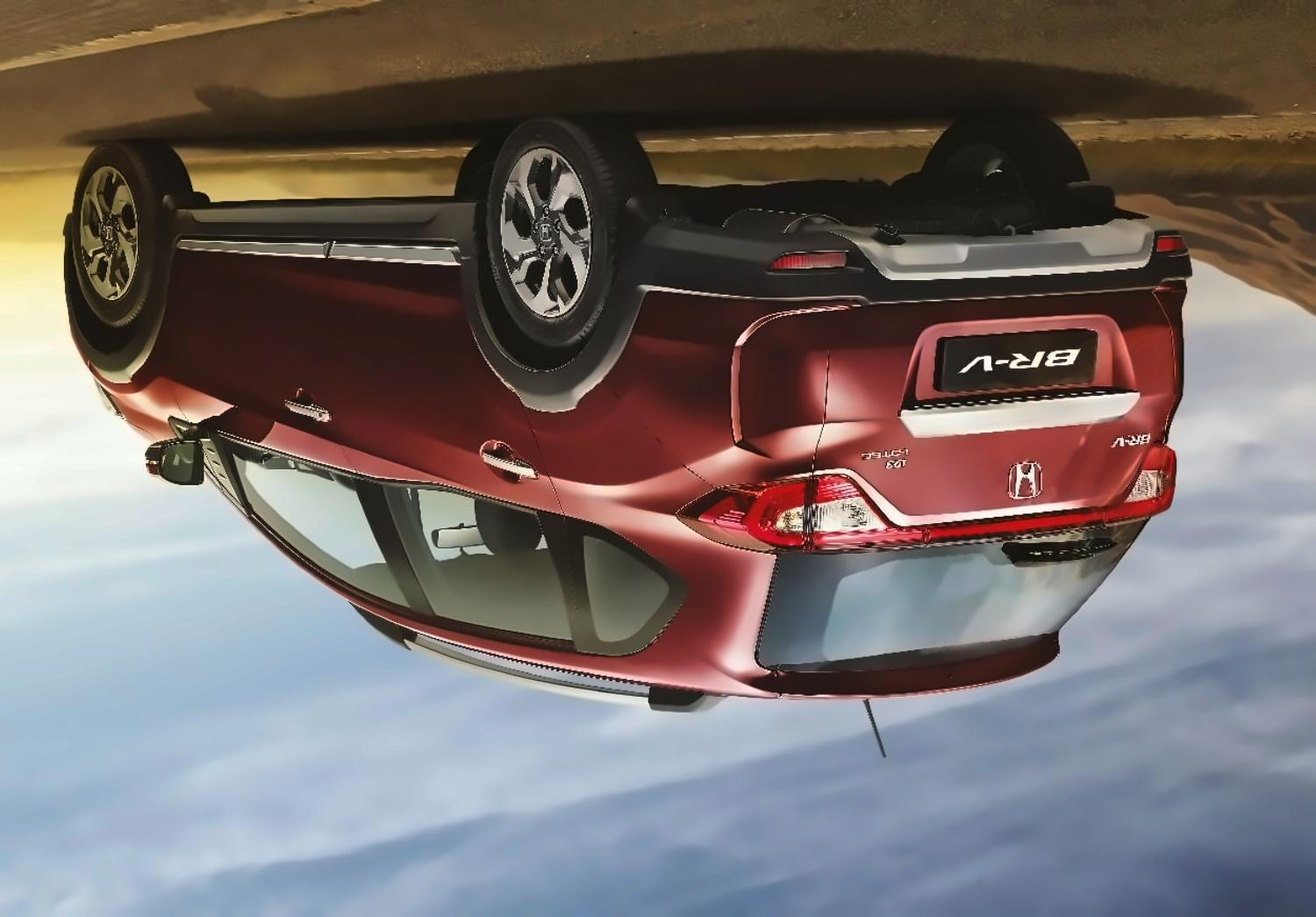Car boot: (804, 279, 1182, 556)
Driver-s door - -F-R-: (190, 237, 386, 619)
Fender - -F-R-: (78, 227, 190, 447)
Fender - -R-R-: (509, 341, 718, 530)
Passenger-s door - -R-R-: (384, 235, 582, 682)
Rear bumper: (602, 199, 1198, 489)
Rear light - -L-: (1088, 430, 1192, 530)
Rear light - -R-: (662, 464, 927, 560)
Side bumper - -R-: (156, 188, 483, 277)
Side mirror - -R-: (118, 420, 217, 506)
